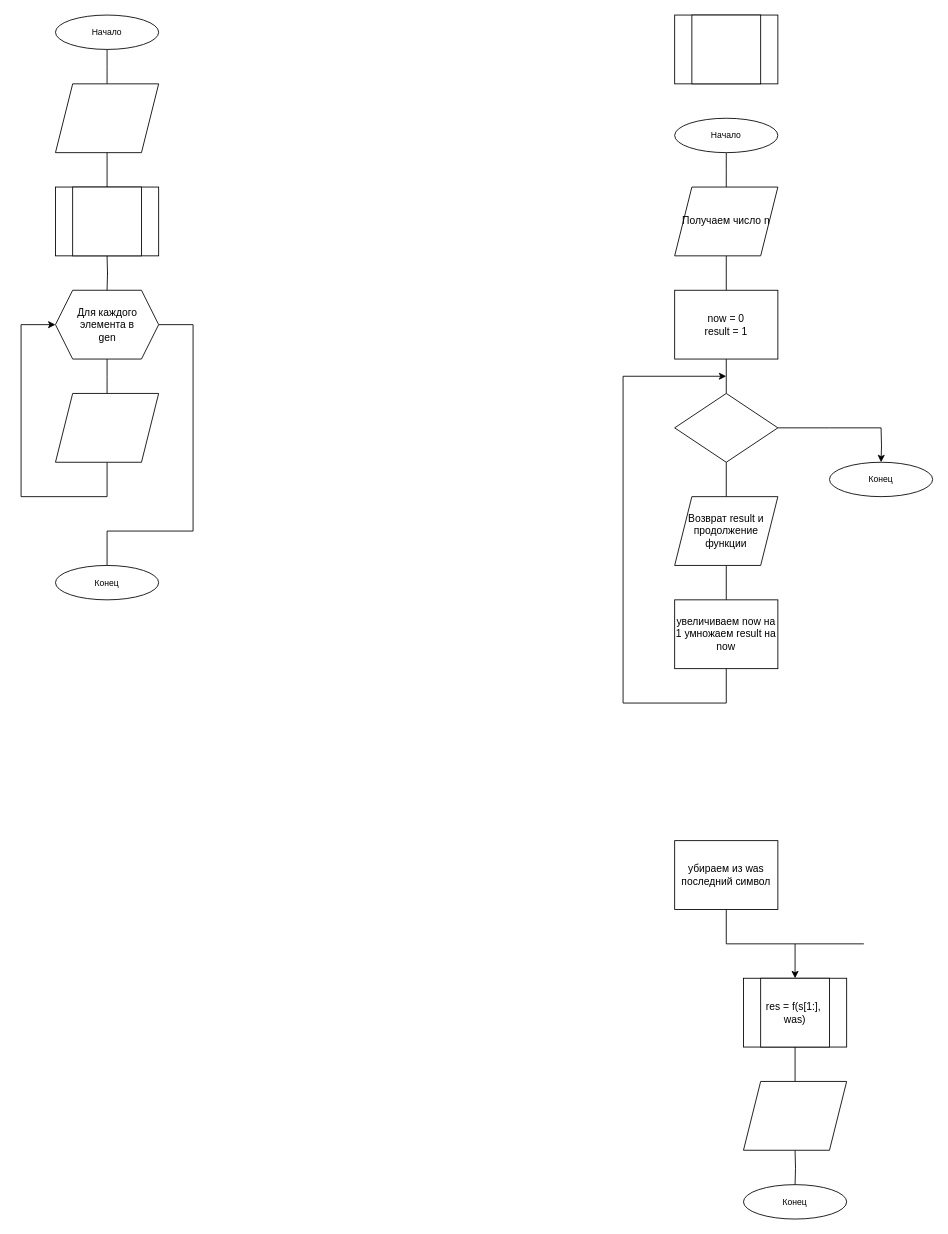
This 948x1234 diagram has some shape labels left out. The shapes that lost their labels are listed below. From the top down, each one's centre as x and y in pixels, then its label:
the point at 726,49: factorial(n: int) -> str
the point at 107,118: Ввод числа в n
the point at 106,221: gen = factorial(n)
the point at 107,427: Вывод этого элемента
the point at 726,427: Пока now не больше n
the point at 795,1115: Возврат result
